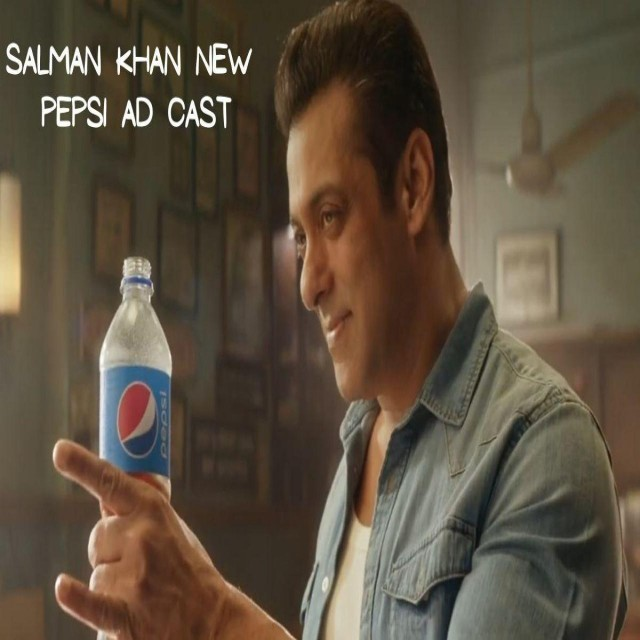pepsi: (117, 380, 159, 462)
